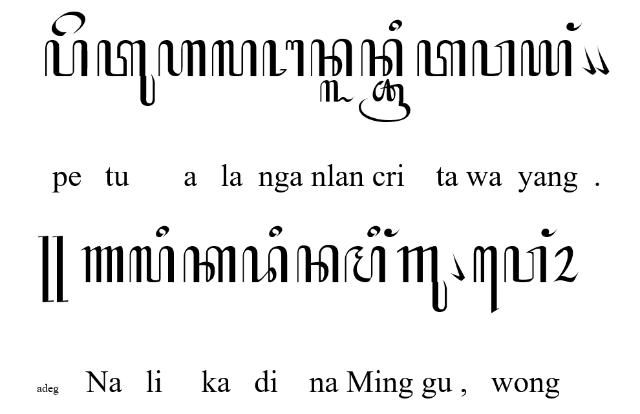N: (80, 246, 124, 284)
_cr: (358, 78, 410, 122)
_l: (319, 79, 355, 103)
adeg2: (38, 236, 68, 304)
c: (361, 39, 404, 78)
d: (242, 245, 290, 283)
e: (50, 10, 86, 36)
e1: (473, 246, 499, 314)
gu: (397, 246, 448, 312)
h: (158, 40, 206, 78)
i: (366, 225, 382, 239), (268, 225, 282, 239), (154, 226, 170, 238), (389, 20, 403, 32)
k: (182, 246, 236, 284)
kom: (594, 44, 610, 76), (450, 251, 466, 283), (582, 44, 596, 76)
l: (211, 39, 257, 78), (129, 245, 175, 283)
m: (344, 246, 386, 284)
n: (297, 244, 339, 284), (310, 38, 352, 76)
ng: (540, 228, 558, 238), (384, 228, 400, 238), (566, 22, 582, 30)
nga: (262, 40, 304, 78)
o: (553, 245, 579, 283)
p: (44, 39, 88, 78)
t: (416, 39, 466, 77)
tu: (96, 39, 156, 107)
w: (472, 39, 514, 78), (504, 245, 546, 283)
y: (520, 39, 572, 77)
